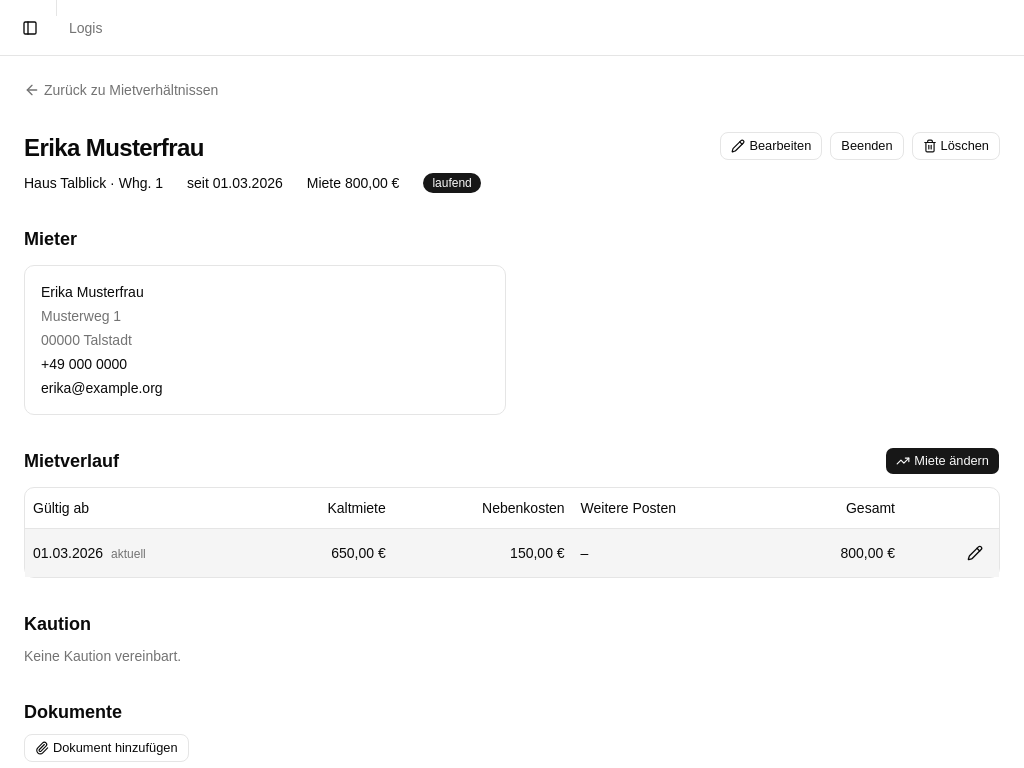
Tenancy page › changes dates, deposit and tenants with „Bearbeiten“
Later steps or results of the test are not shown.
Click the button "Bearbeiten": (771, 146) [720,132,822,160]
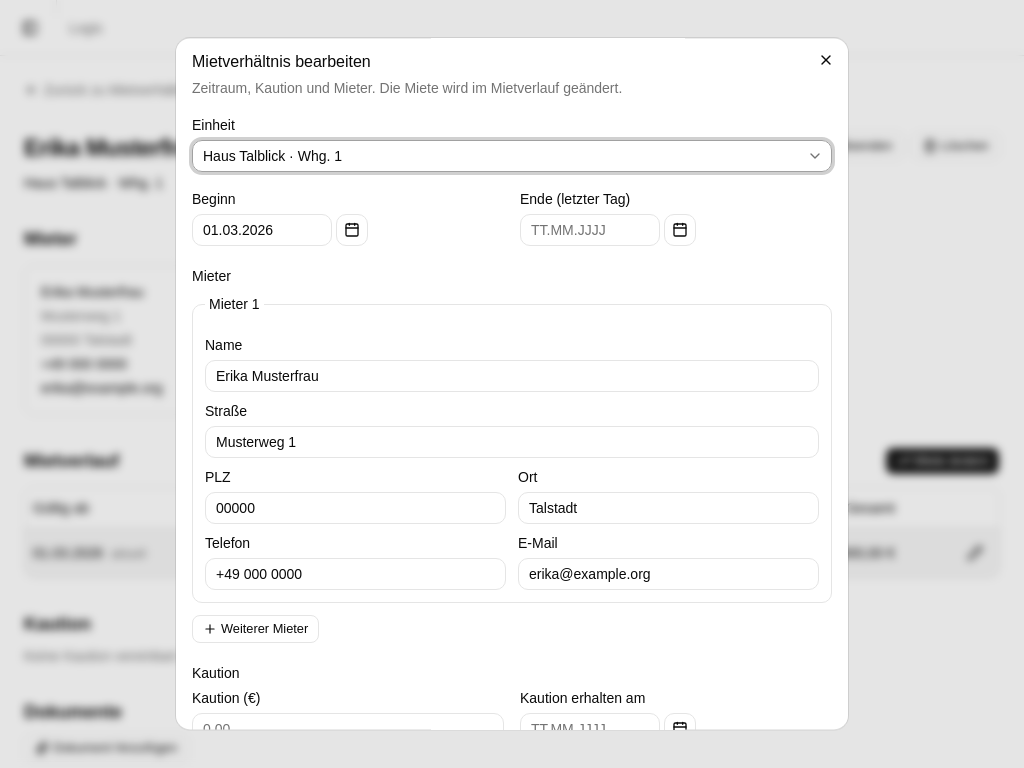
Now the field labelled "Name" holds "Erika Musterfrau", box [205,360,819,392]
